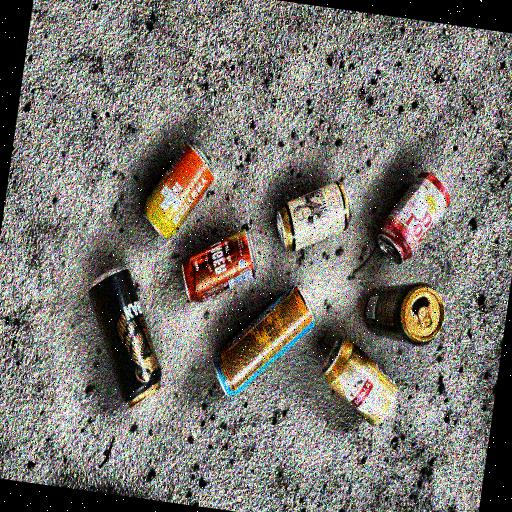A_LeCoq: (316, 341, 414, 432)
karhu: (62, 263, 178, 418)
koff: (371, 158, 460, 272)
koti: (173, 222, 265, 316)
sandels: (268, 164, 363, 268)
